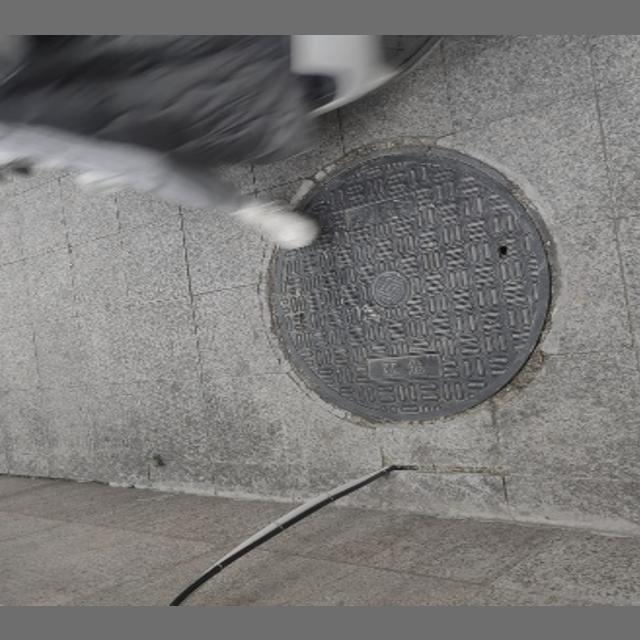good: (263, 141, 549, 421)
